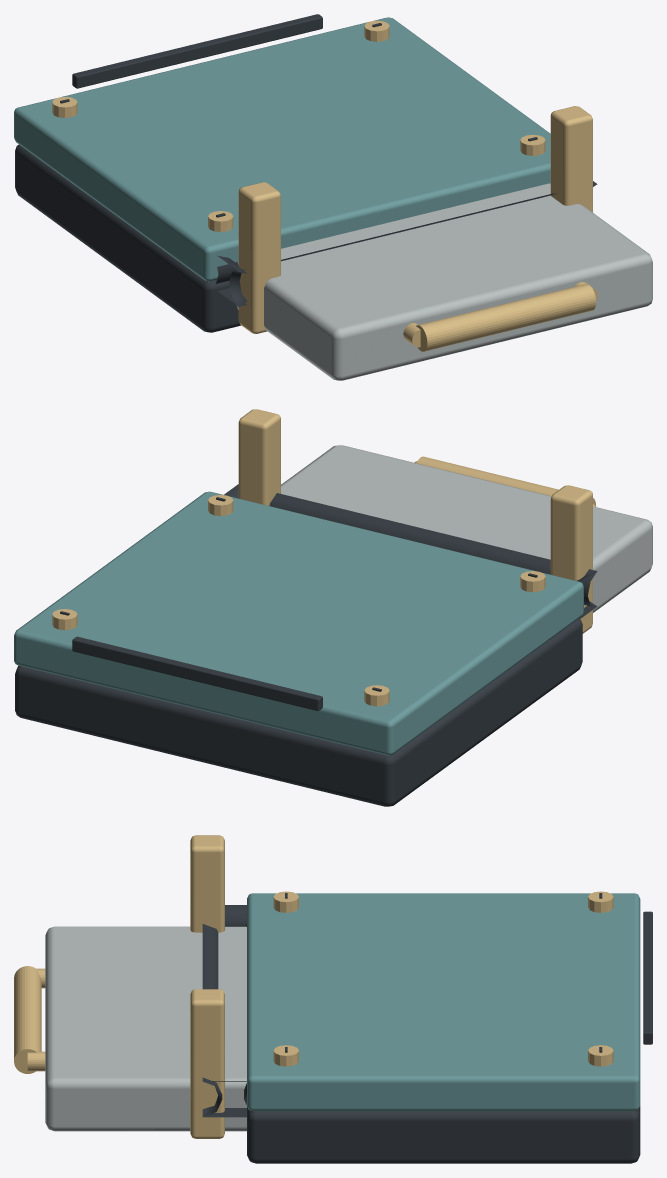
Rendered from abandoned-cinema-and-projection-booth-abandoned-cinema-af4ec0cc__29728.glb.
3 views of the same model, one above another, from view 1: azimuth 30°, elevation 25°; view 2: azimuth 150°, elevation 25°; view 3: azimuth 270°, elevation 25° (orthographic).
Parts seen in each view (by area): view 1: abandoned-cinema-and-projection-booth-cash-drawer; view 2: abandoned-cinema-and-projection-booth-cash-drawer; view 3: abandoned-cinema-and-projection-booth-cash-drawer.
Part boxes in pixels (x1,y1,x2,y2): abandoned-cinema-and-projection-booth-cash-drawer: (14, 14, 652, 380); abandoned-cinema-and-projection-booth-cash-drawer: (14, 409, 652, 806); abandoned-cinema-and-projection-booth-cash-drawer: (14, 835, 652, 1163).
Size of the model in its own units: 0.45 by 0.175 by 0.65.
